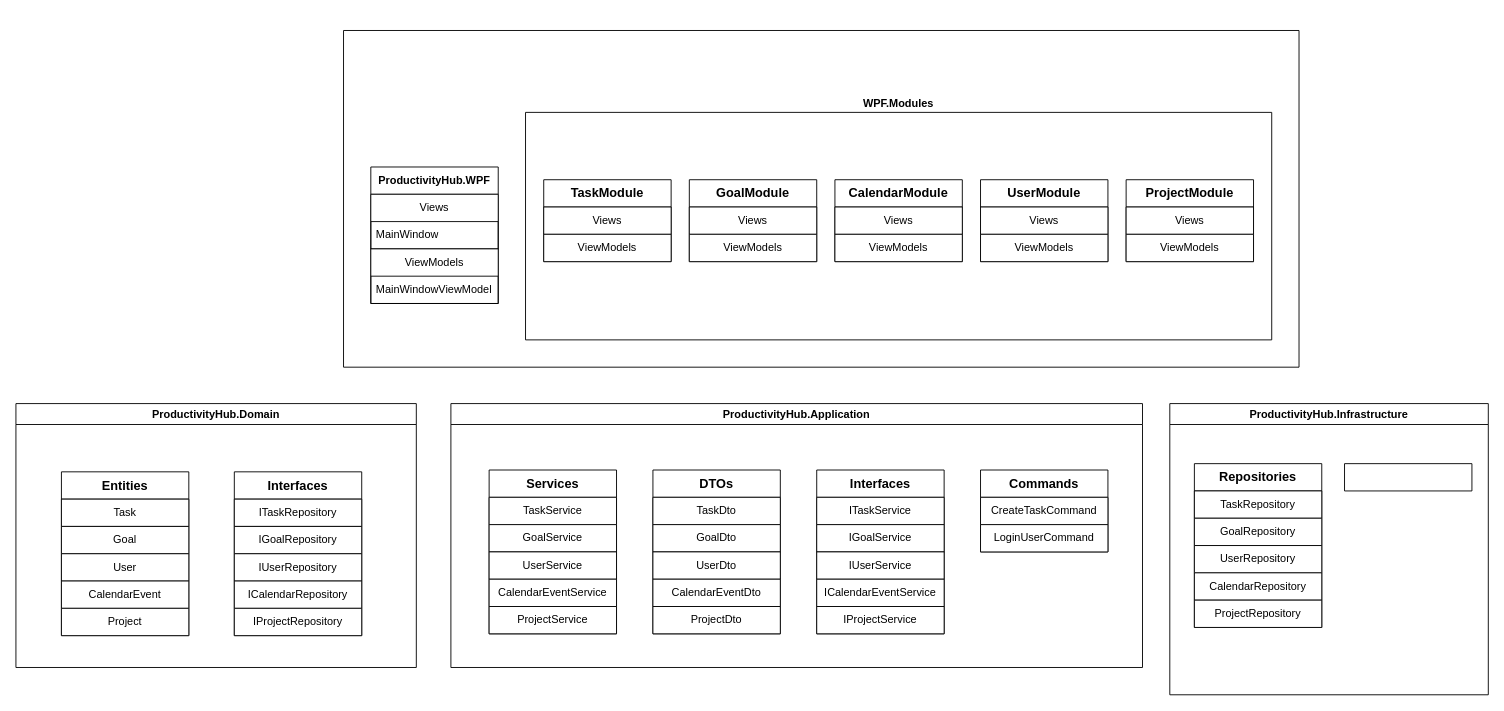
The diagram is 1504 pixels wide and 711 high, and some of its shapes have lost their labels. The shapes that lost their labels are listed below. From the top down, each one's centre as x and y in pixels, then its label:
the point at 821,198: WPF
the point at 1408,477: AppDbContext
